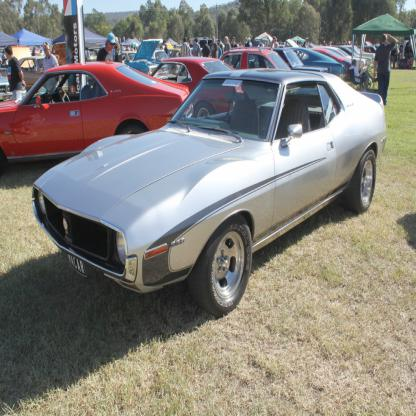Car: (0, 35, 378, 320)
